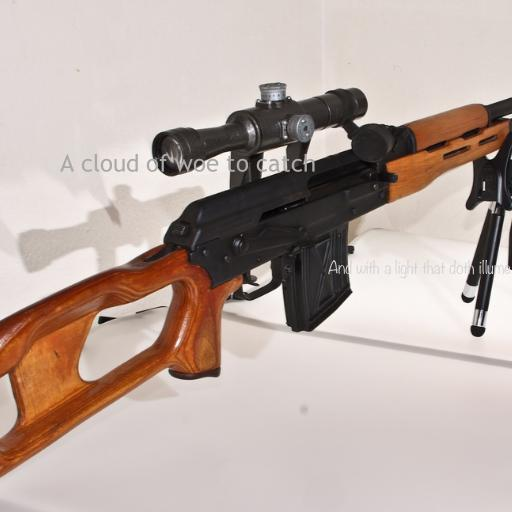Noteworthy: (327, 259, 511, 279)
Trebuchet MS: (60, 153, 316, 172)
